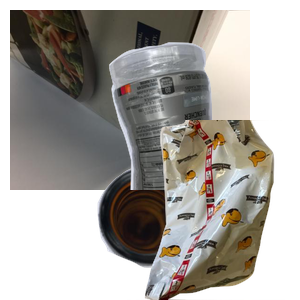cardboard: (10, 10, 250, 190)
glass: (95, 164, 286, 300)
plastic: (106, 40, 300, 220)
trash: (127, 120, 300, 300)
